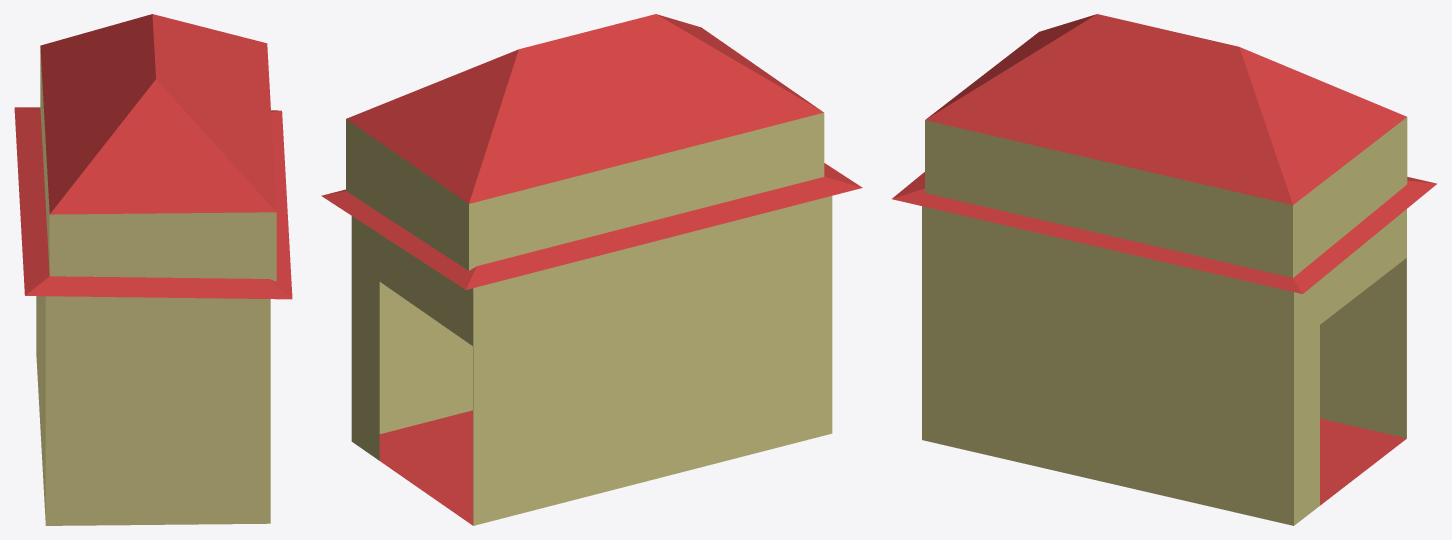
3 renders of one model, left to right at view 1: azimuth 30°, elevation 25°; view 2: azimuth 150°, elevation 25°; view 3: azimuth 270°, elevation 25°, orthographic. The views are drawn at different scales.
Visible parts, largest first — view 1: group_7, group_4, group_5, group_3, group_6; view 2: group_7, group_4, group_5, group_3, group_8, group_6; view 3: group_7, group_4, group_5, group_3, group_8.
Boxes of the visible parts, bbox=[...] form: group_7: bbox=[36, 296, 270, 525]; group_4: bbox=[40, 14, 276, 214]; group_5: bbox=[40, 48, 276, 281]; group_3: bbox=[14, 107, 292, 299]; group_6: bbox=[15, 108, 289, 298]; group_7: bbox=[351, 196, 832, 525]; group_4: bbox=[346, 14, 823, 203]; group_5: bbox=[346, 112, 824, 270]; group_3: bbox=[321, 163, 862, 289]; group_8: bbox=[379, 410, 472, 525]; group_6: bbox=[467, 165, 857, 288]; group_7: bbox=[922, 206, 1406, 525]; group_4: bbox=[925, 14, 1406, 204]; group_5: bbox=[925, 117, 1407, 277]; group_3: bbox=[892, 172, 1436, 293]; group_8: bbox=[1320, 418, 1406, 505].
Bounding box in the file's own units: 15.74 × 18.24 × 15.11.
